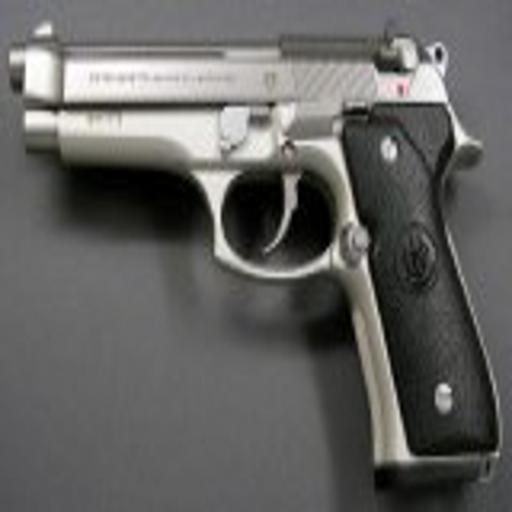Handgun: (5, 20, 501, 481)
